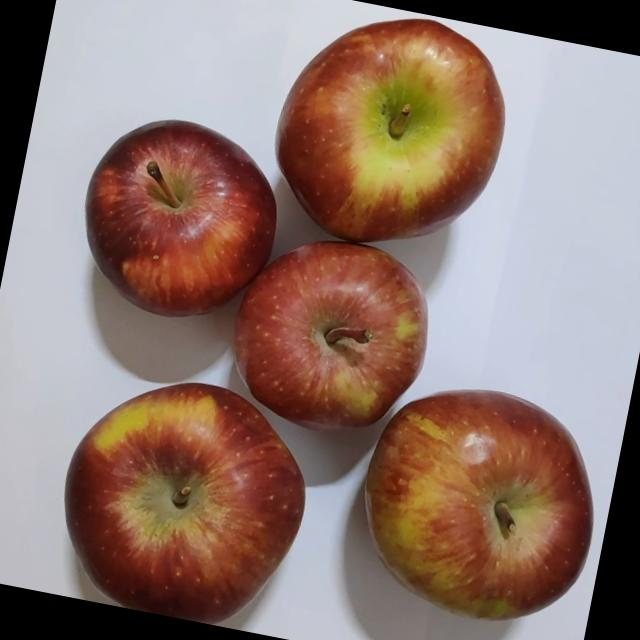apple: (39, 354, 324, 638), (329, 358, 607, 640), (249, 1, 514, 278), (60, 105, 295, 347), (212, 221, 444, 448)
